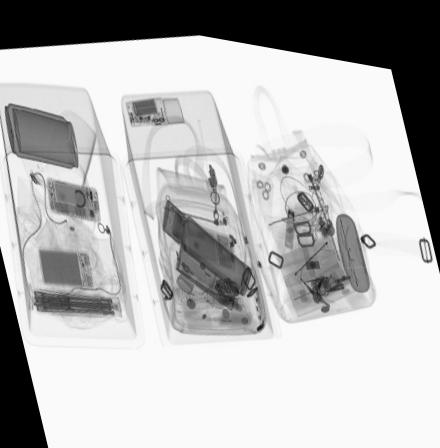Powerbank: (36, 245, 93, 283)
